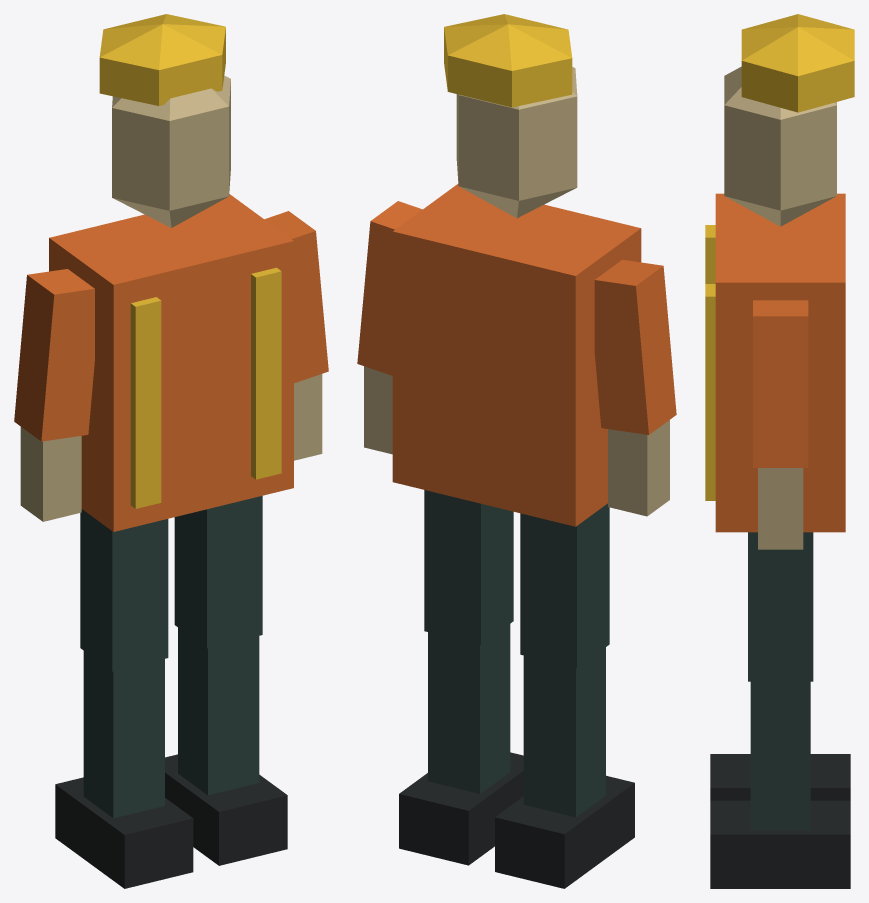
File: TownWorker0.obj
3 views of the same model, side by side, from view 1: azimuth 30°, elevation 25°; view 2: azimuth 150°, elevation 25°; view 3: azimuth 270°, elevation 25° (orthographic).
Parts seen in each view (by area): view 1: TownWorker0; view 2: TownWorker0; view 3: TownWorker0.
Part boxes in pixels (box(x1,y1,x2,y2)): TownWorker0: box(14, 14, 328, 888); TownWorker0: box(357, 14, 676, 888); TownWorker0: box(705, 14, 854, 888).
Bounding box in the file's own units: 0.6695 × 1.81 × 0.2975.
1 material, 1 textured.
